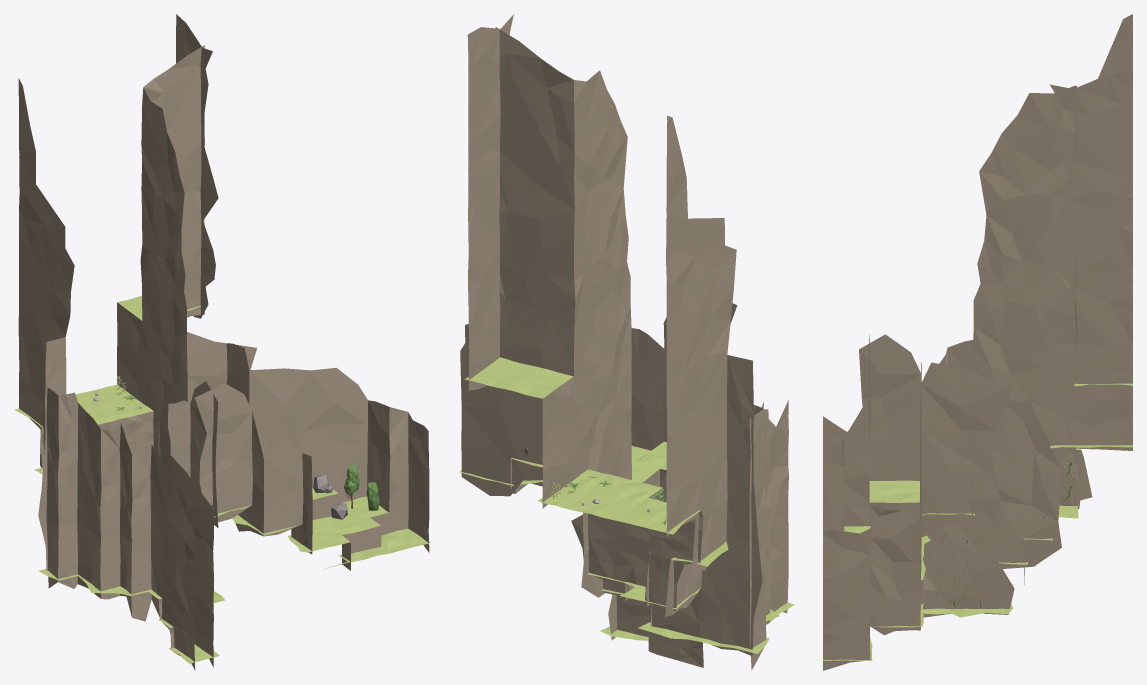
The picture shows the model from 3 angles, left to right: view 1: azimuth 30°, elevation 25°; view 2: azimuth 150°, elevation 25°; view 3: azimuth 270°, elevation 25°; orthographic projection. The views are drawn at different scales.
Visible parts, largest first — view 1: 4; view 2: 4; view 3: 4.
Part boxes in pixels (x1,y1,x2,y2): 4: [14, 14, 430, 670]; 4: [459, 14, 794, 670]; 4: [823, 14, 1132, 670].
Size of the model in its own units: 15.52 by 25.87 by 12.
1 material, 1 textured.
